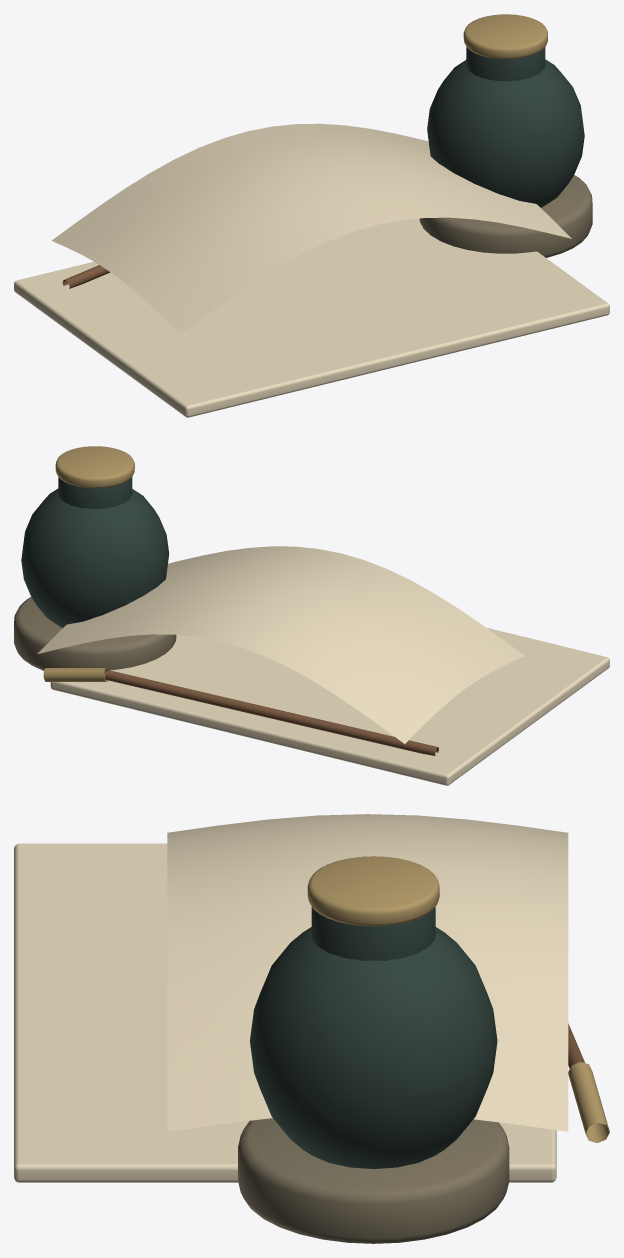
The model's file is chapter-iii-08db98fb00e0.glb.
3 renders of one model, top to bottom at view 1: azimuth 30°, elevation 25°; view 2: azimuth 150°, elevation 25°; view 3: azimuth 270°, elevation 25°, orthographic. The views are drawn at different scales.
Visible parts, largest first — view 1: Cotton writing card, Faceted ink bottle, Octagonal ink bottle foot, Brass bottle lip; view 2: Cotton writing card, Faceted ink bottle, Octagonal ink bottle foot, Brass bottle lip, Dip pen shaft; view 3: Cotton writing card, Faceted ink bottle, Octagonal ink bottle foot, Brass bottle lip.
Part boxes in pixels (left/top/right/bottom): Cotton writing card: left=14, top=123, right=609, bottom=417; Faceted ink bottle: left=427, top=47, right=584, bottom=207; Octagonal ink bottle foot: left=419, top=175, right=592, bottom=257; Brass bottle lip: left=463, top=14, right=547, bottom=58; Cotton writing card: left=37, top=546, right=609, bottom=785; Faceted ink bottle: left=21, top=477, right=169, bottom=627; Octagonal ink bottle foot: left=14, top=597, right=176, bottom=670; Brass bottle lip: left=43, top=446, right=134, bottom=681; Dip pen shaft: left=105, top=670, right=438, bottom=755; Cotton writing card: left=14, top=814, right=568, bottom=1182; Faceted ink bottle: left=250, top=907, right=497, bottom=1168; Octagonal ink bottle foot: left=238, top=1118, right=509, bottom=1243; Brass bottle lip: left=307, top=856, right=609, bottom=1142.
Size of the model in its own units: 1.56 by 0.5795 by 1.01.
